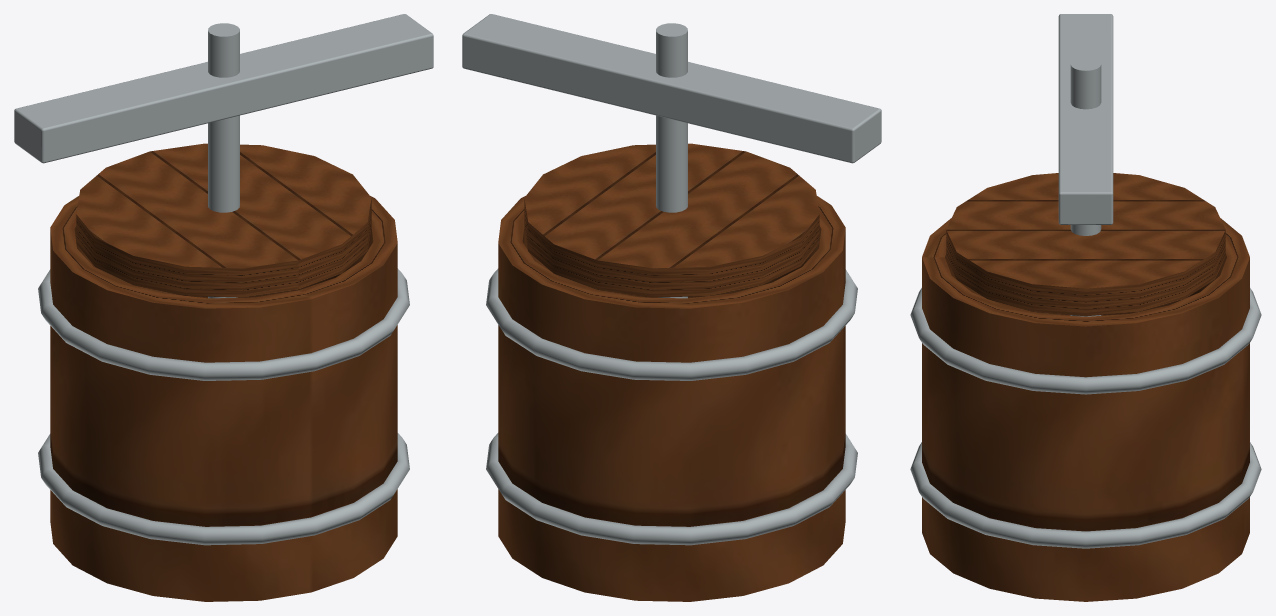
File: survival-food-and-preservation-fruit-press-2dcaa9fa__21817.glb
3 views of the same model, side by side, from view 1: azimuth 30°, elevation 25°; view 2: azimuth 150°, elevation 25°; view 3: azimuth 270°, elevation 25° (orthographic). The views are drawn at different scales.
Parts seen in each view (by area): view 1: fruit-press; view 2: fruit-press; view 3: fruit-press.
Boxes of the visible parts, <box> form: fruit-press: <box>14,14,433,601</box>; fruit-press: <box>462,14,881,601</box>; fruit-press: <box>910,14,1261,601</box>.
Size of the model in its own units: 0.7001 by 0.85 by 0.578.
Materials: 2 (1 with a texture image).
